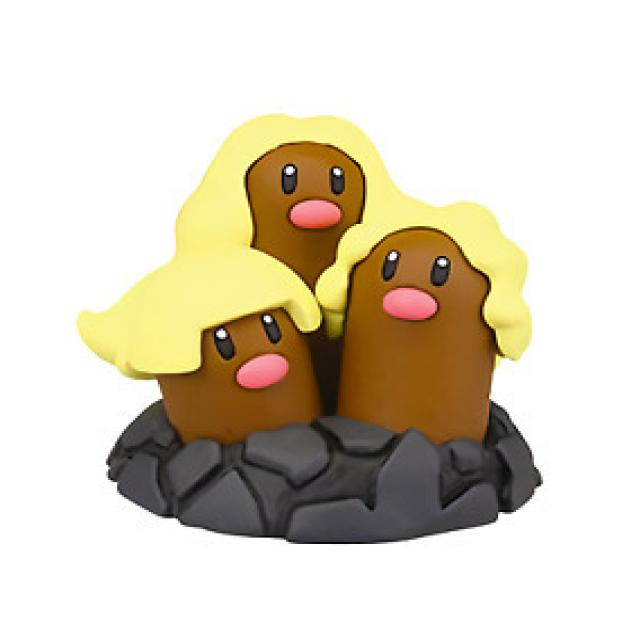Dugtrio: (113, 117, 547, 529)
